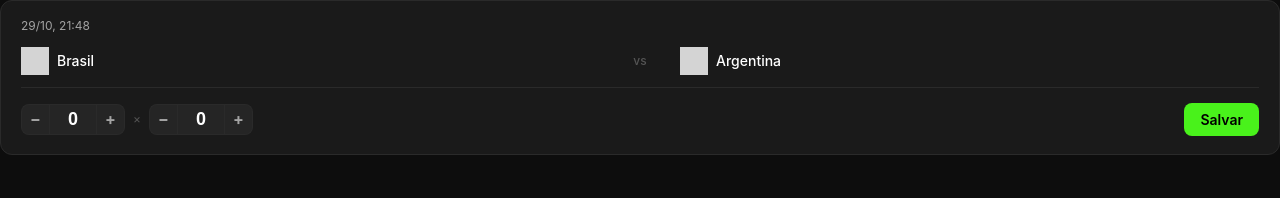
Test: MatchCard – Error state › shows an error message when saving fails
Click the button named "Aumentar placar Brasil". click: (111, 119)
box: [97,104,125,134]
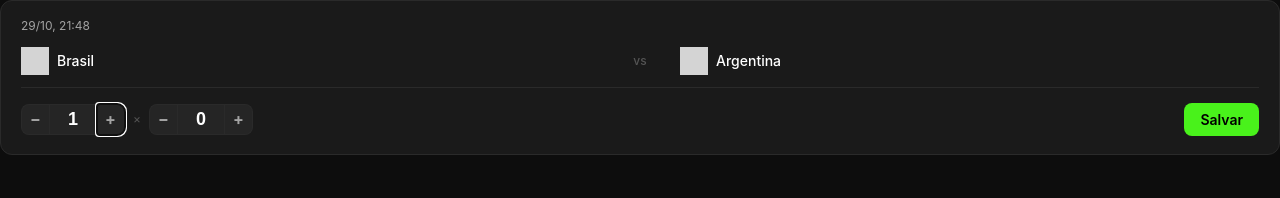
Click the button "Salvar". click: (1222, 119)
box: [1184,102,1259,136]
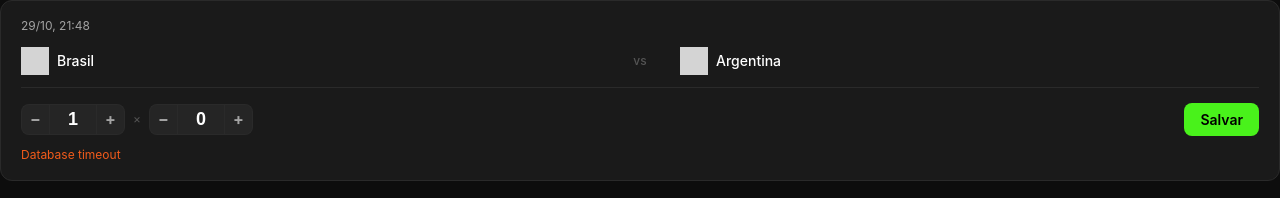
Check: the text "Database timeout" is shown, box [21,147,121,162]
